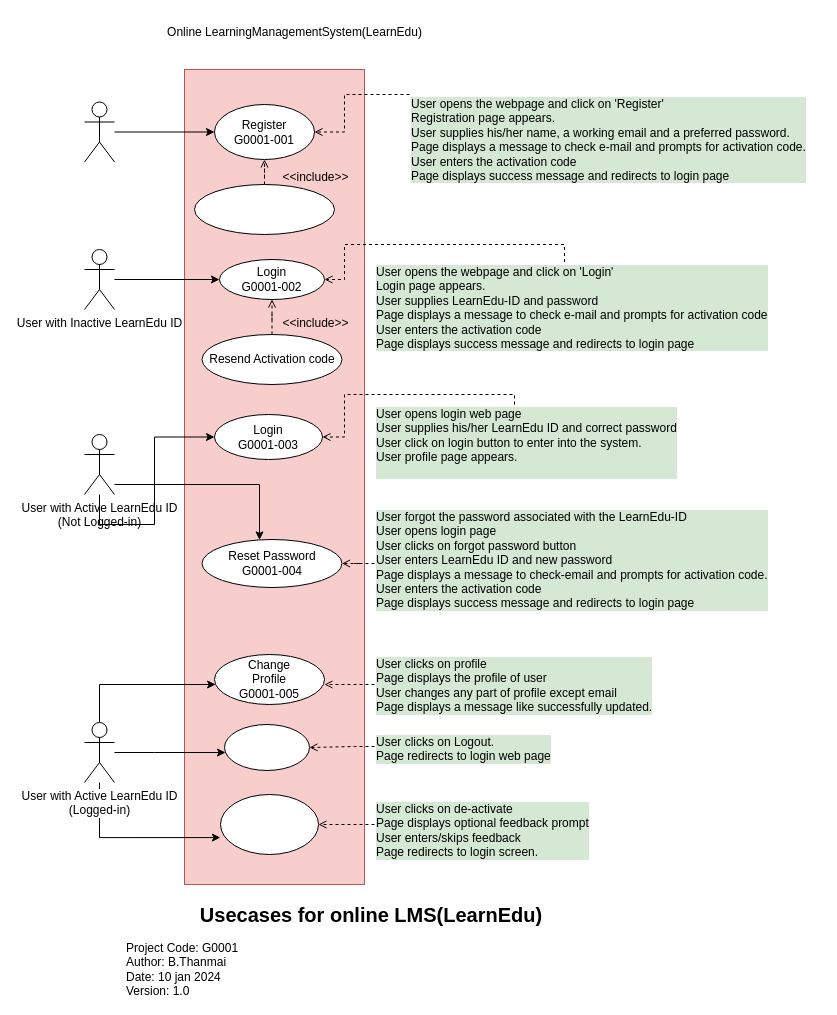
This 837x1015 diagram has some shape labels left out. Here are the shapes that lost their labels. From the top down, the centre of each, then its label:
(99,131): User without LearnEdu ID
(264,209): Send Activation code
(267,747): Logout G0001-006
(269,824): De-activate Account G0001-007
